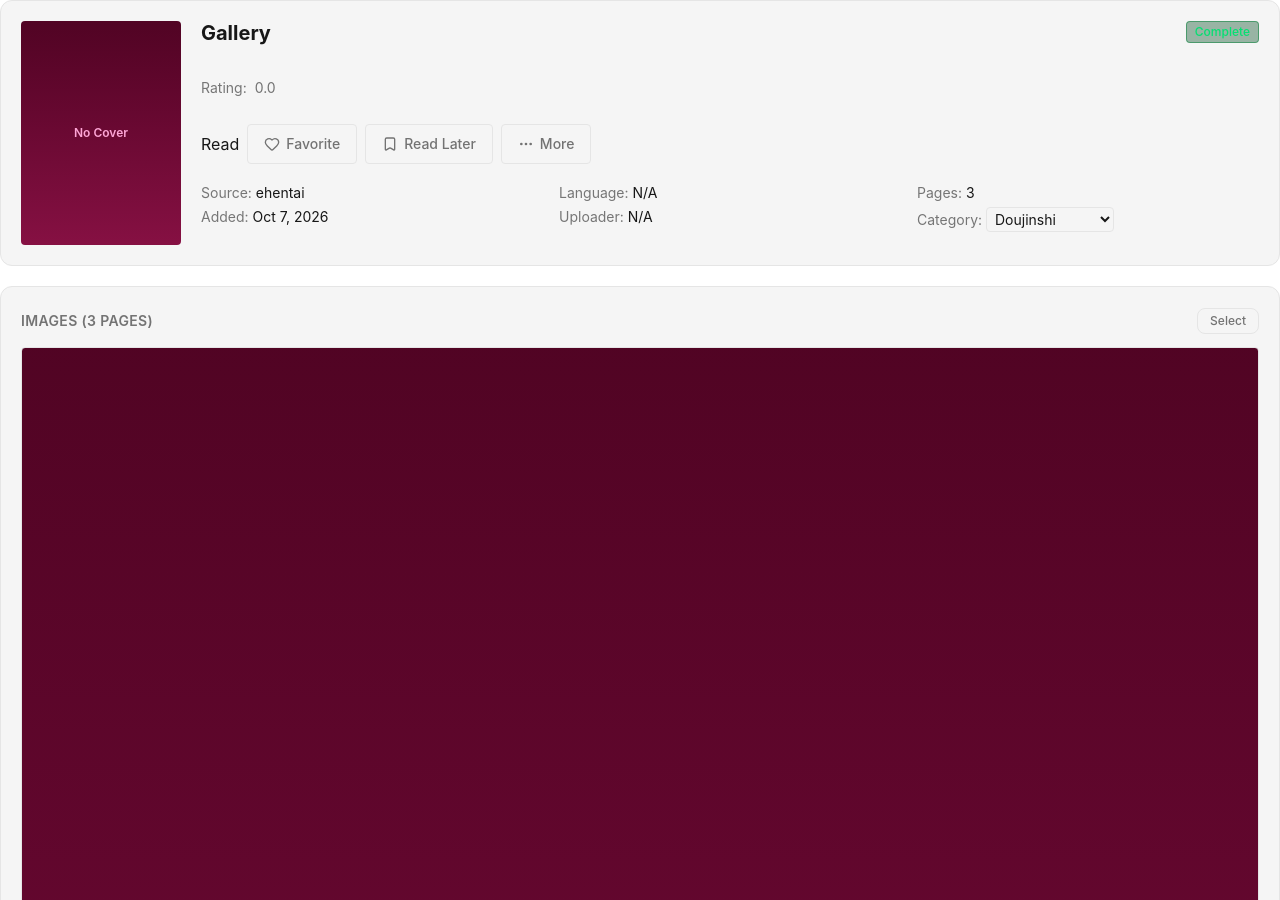
Test: gallery detail select bar and exclusion list › select mode on a narrow screen puts its actions in a wrapping bar outside the image header
The width and height of the screenshot is (1280, 900).
Click the button "Select". click: click(1228, 321)
box: [1197,308,1259,334]
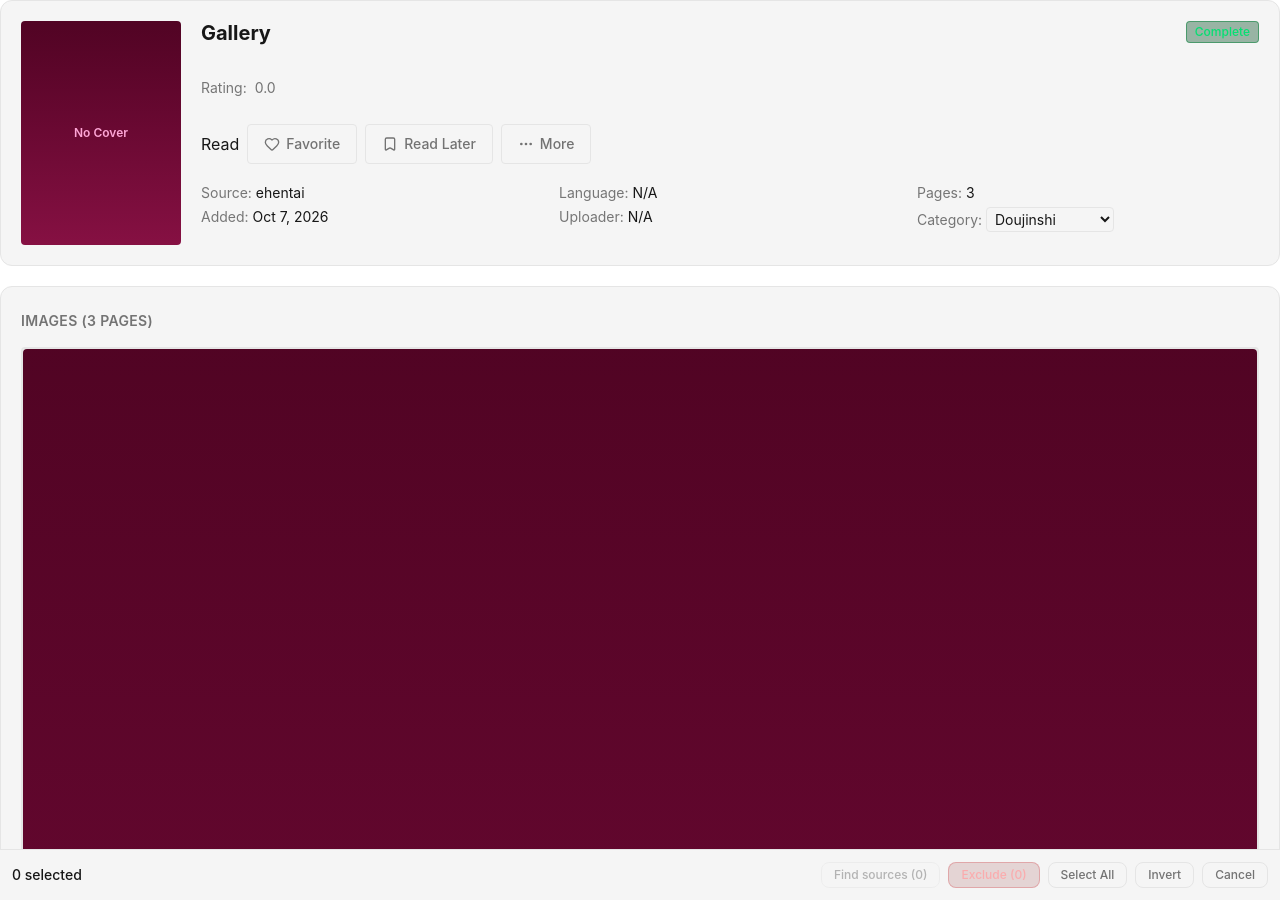
Check: the button "Exclude (0)" is shown, box [948,862,1040,888]
Check: the button "Select All" is shown, box [1048,862,1127,888]
Check: the button "Invert" is shown, box [1135,862,1194,888]
Click the button "Cancel". click: click(1235, 875)
box: [1202,862,1268,888]
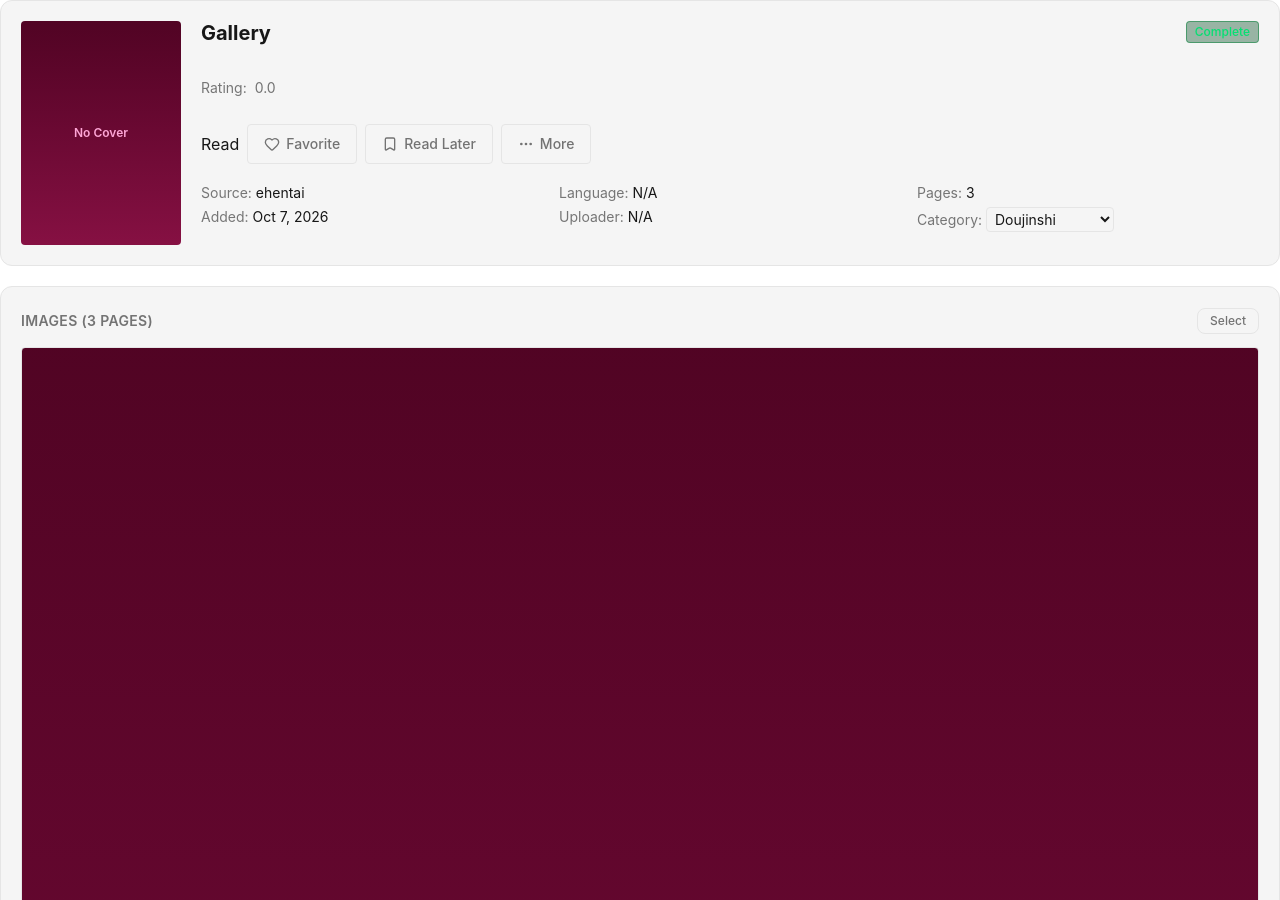
Check: the element with test id "image-select-bar" is gone
